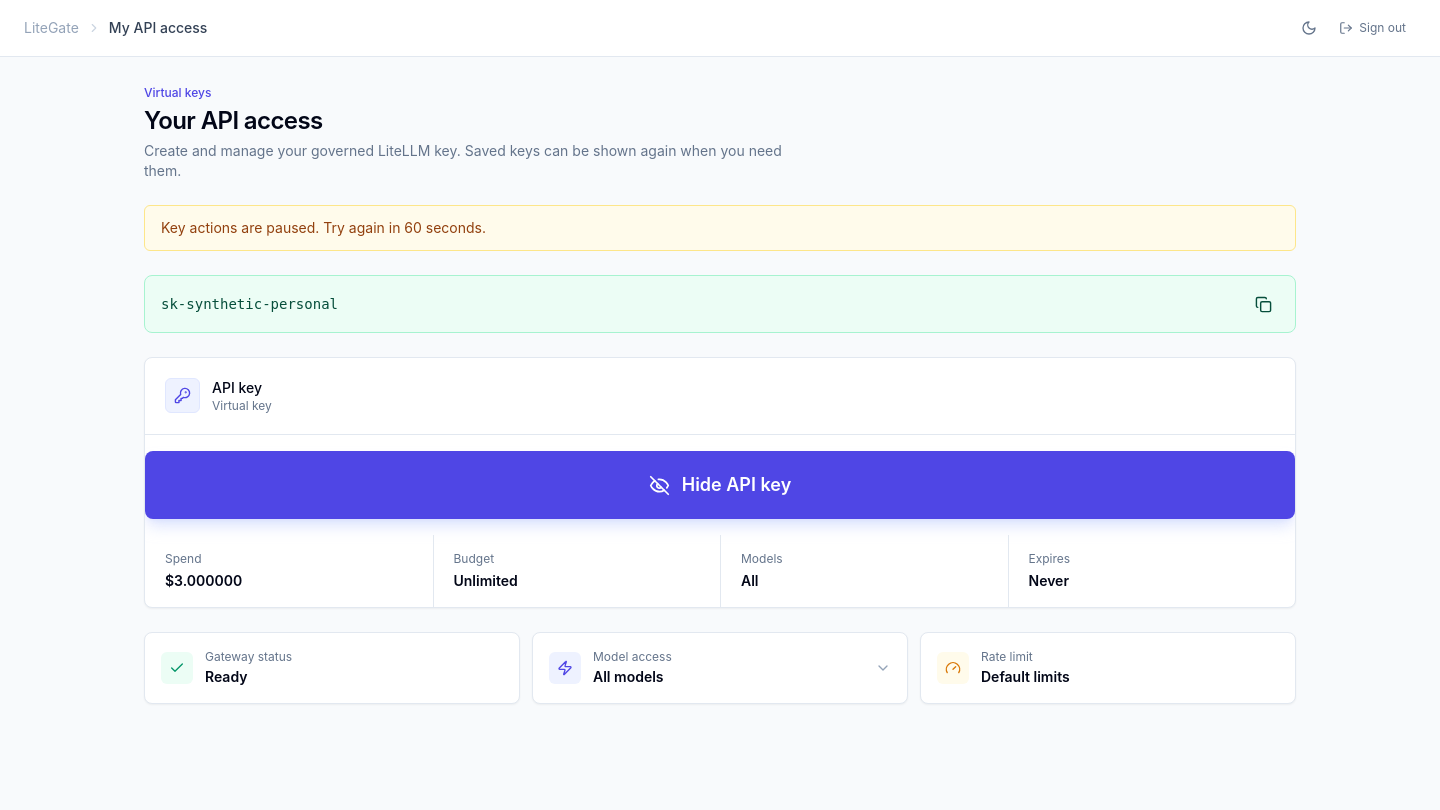
Test: personal key storage › shows the stored key above its summary with the toggle inside the card during a cooldown
The image size is (1440, 810).
Expected: the text "sk-synthetic-personal" is shown, top-left (161, 296), bottom-right (338, 312)
Click the button "Hide API key": x=720, y=485 top-left (145, 451), bottom-right (1295, 519)
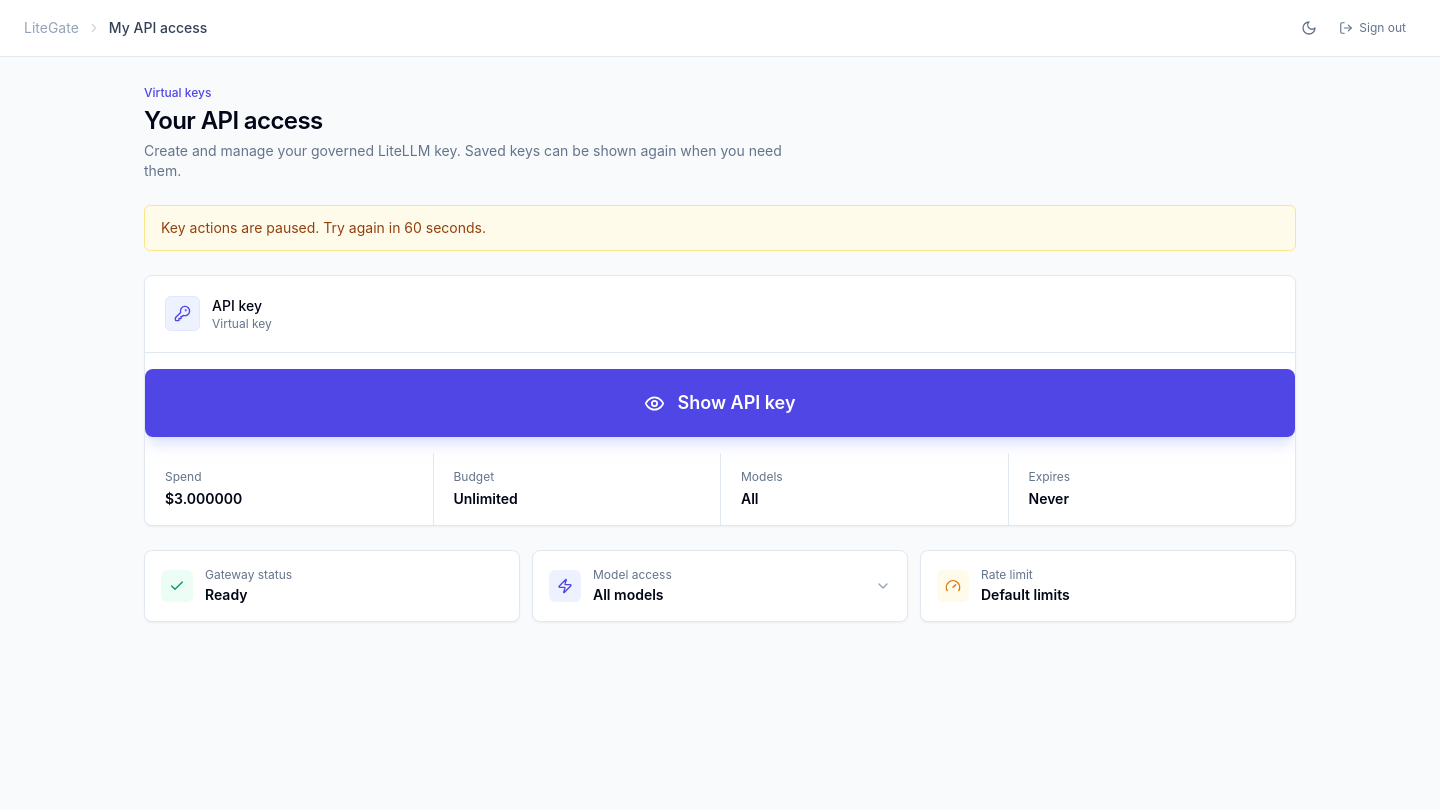
Expected: the text "sk-synthetic-personal" is gone
Click the button "Show API key": x=720, y=403 top-left (145, 369), bottom-right (1295, 437)
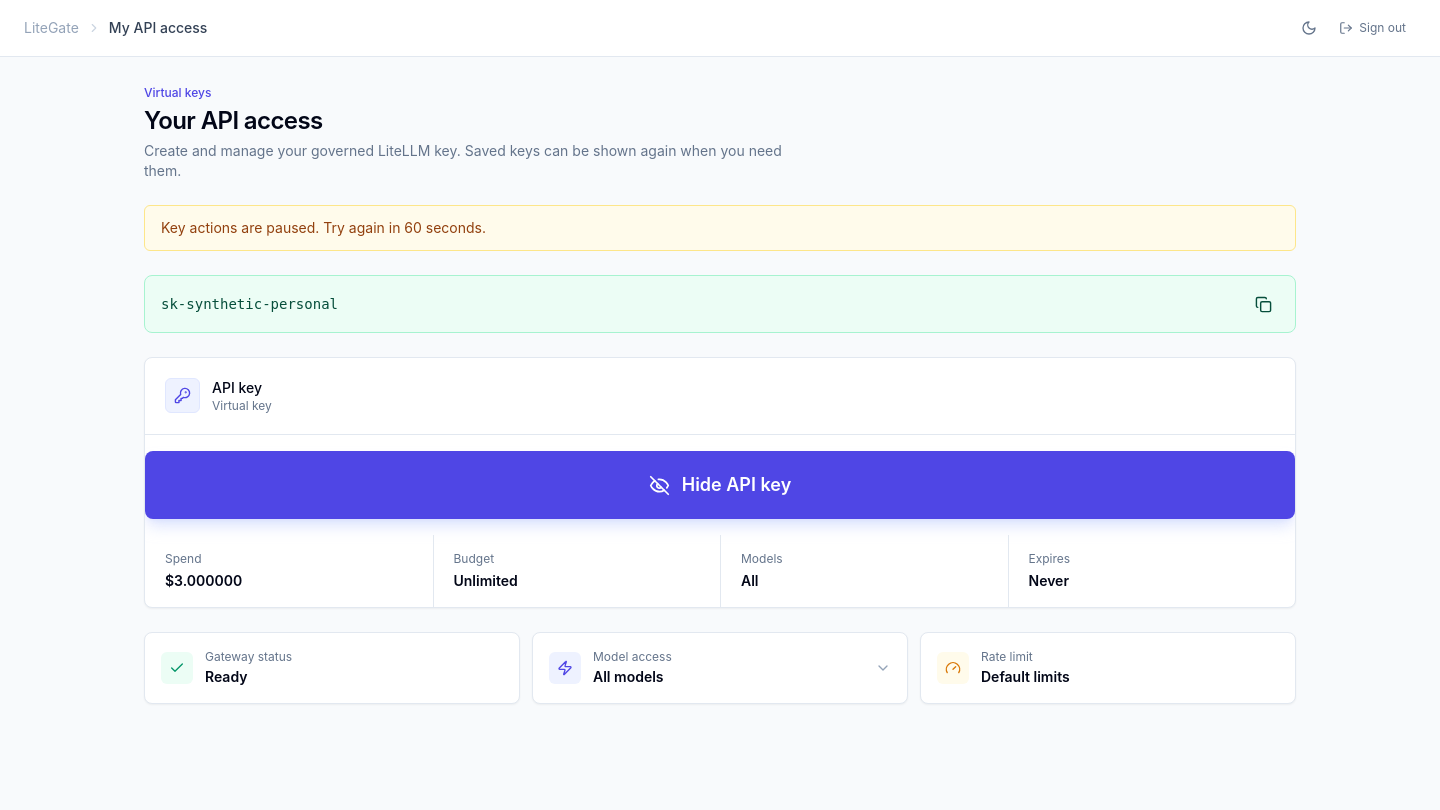
Expected: the text "sk-synthetic-personal" is shown, top-left (161, 296), bottom-right (338, 312)
